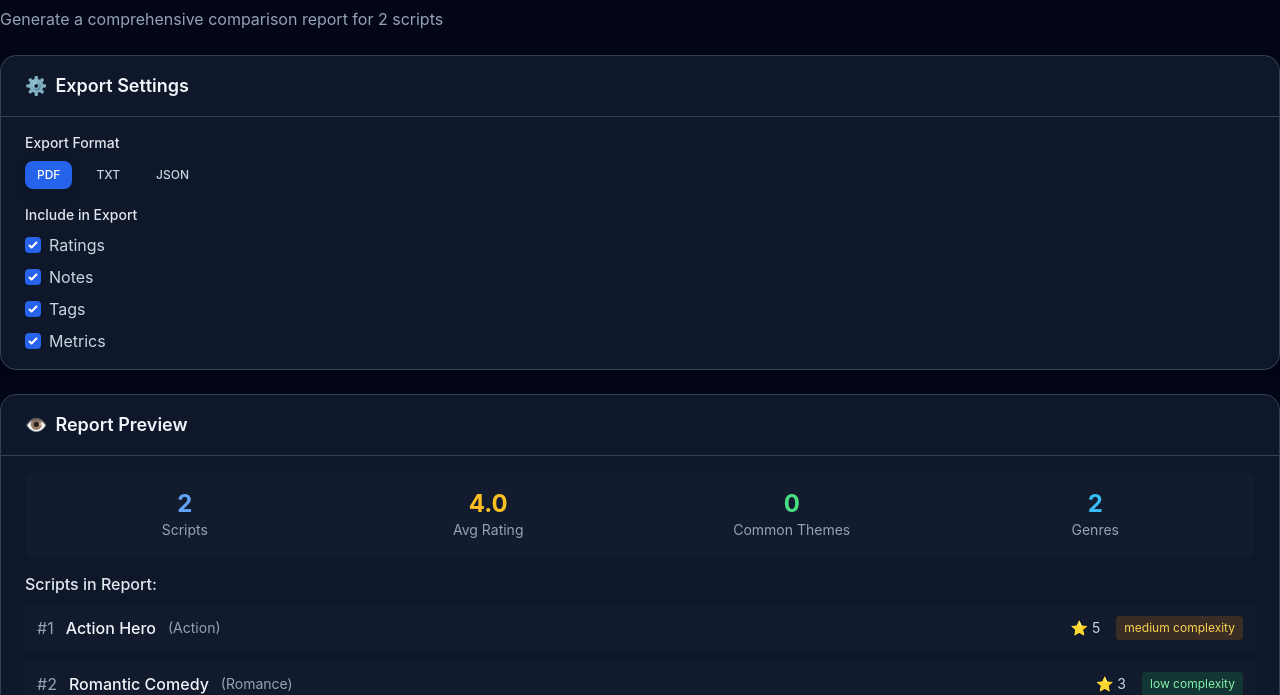
Test case: ComparisonExport › allows format selection
This screenshot has width=1280, height=695.
Step 1. Click the button "TXT" → (108, 175), box left=84, top=161, right=132, bottom=189
(page scrolled)
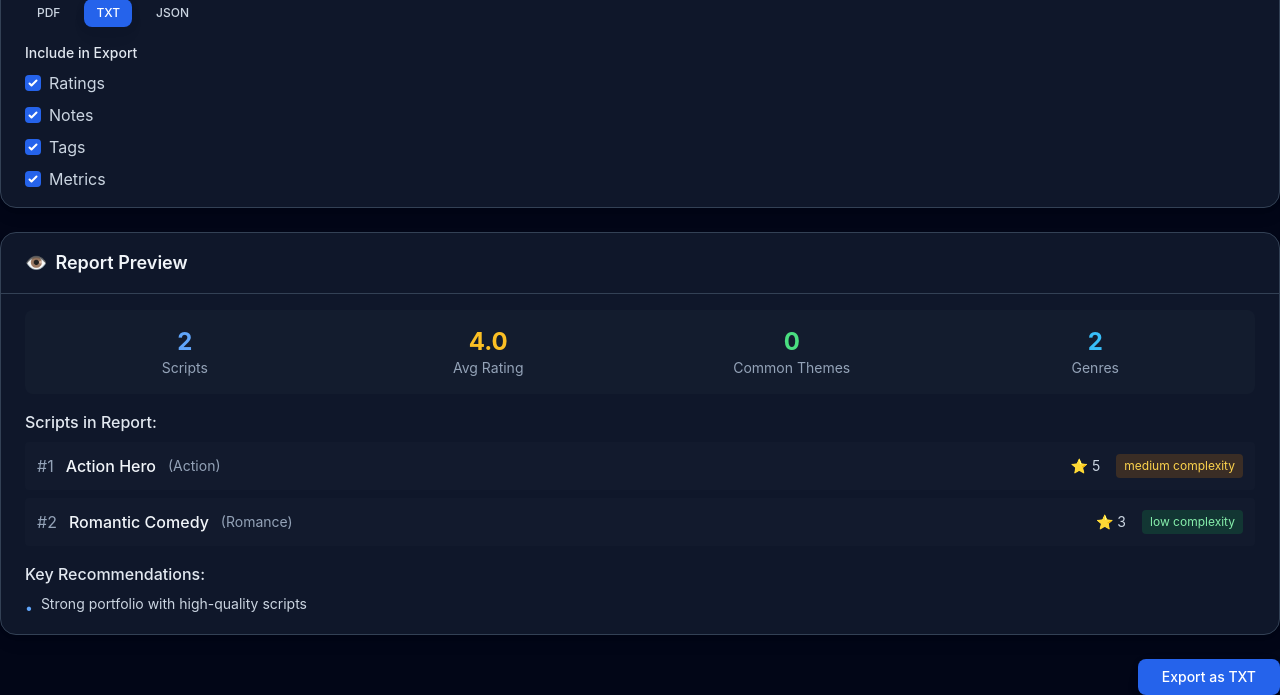
Expected: the button "Export as TXT" is shown, left=1138, top=659, right=1279, bottom=694
